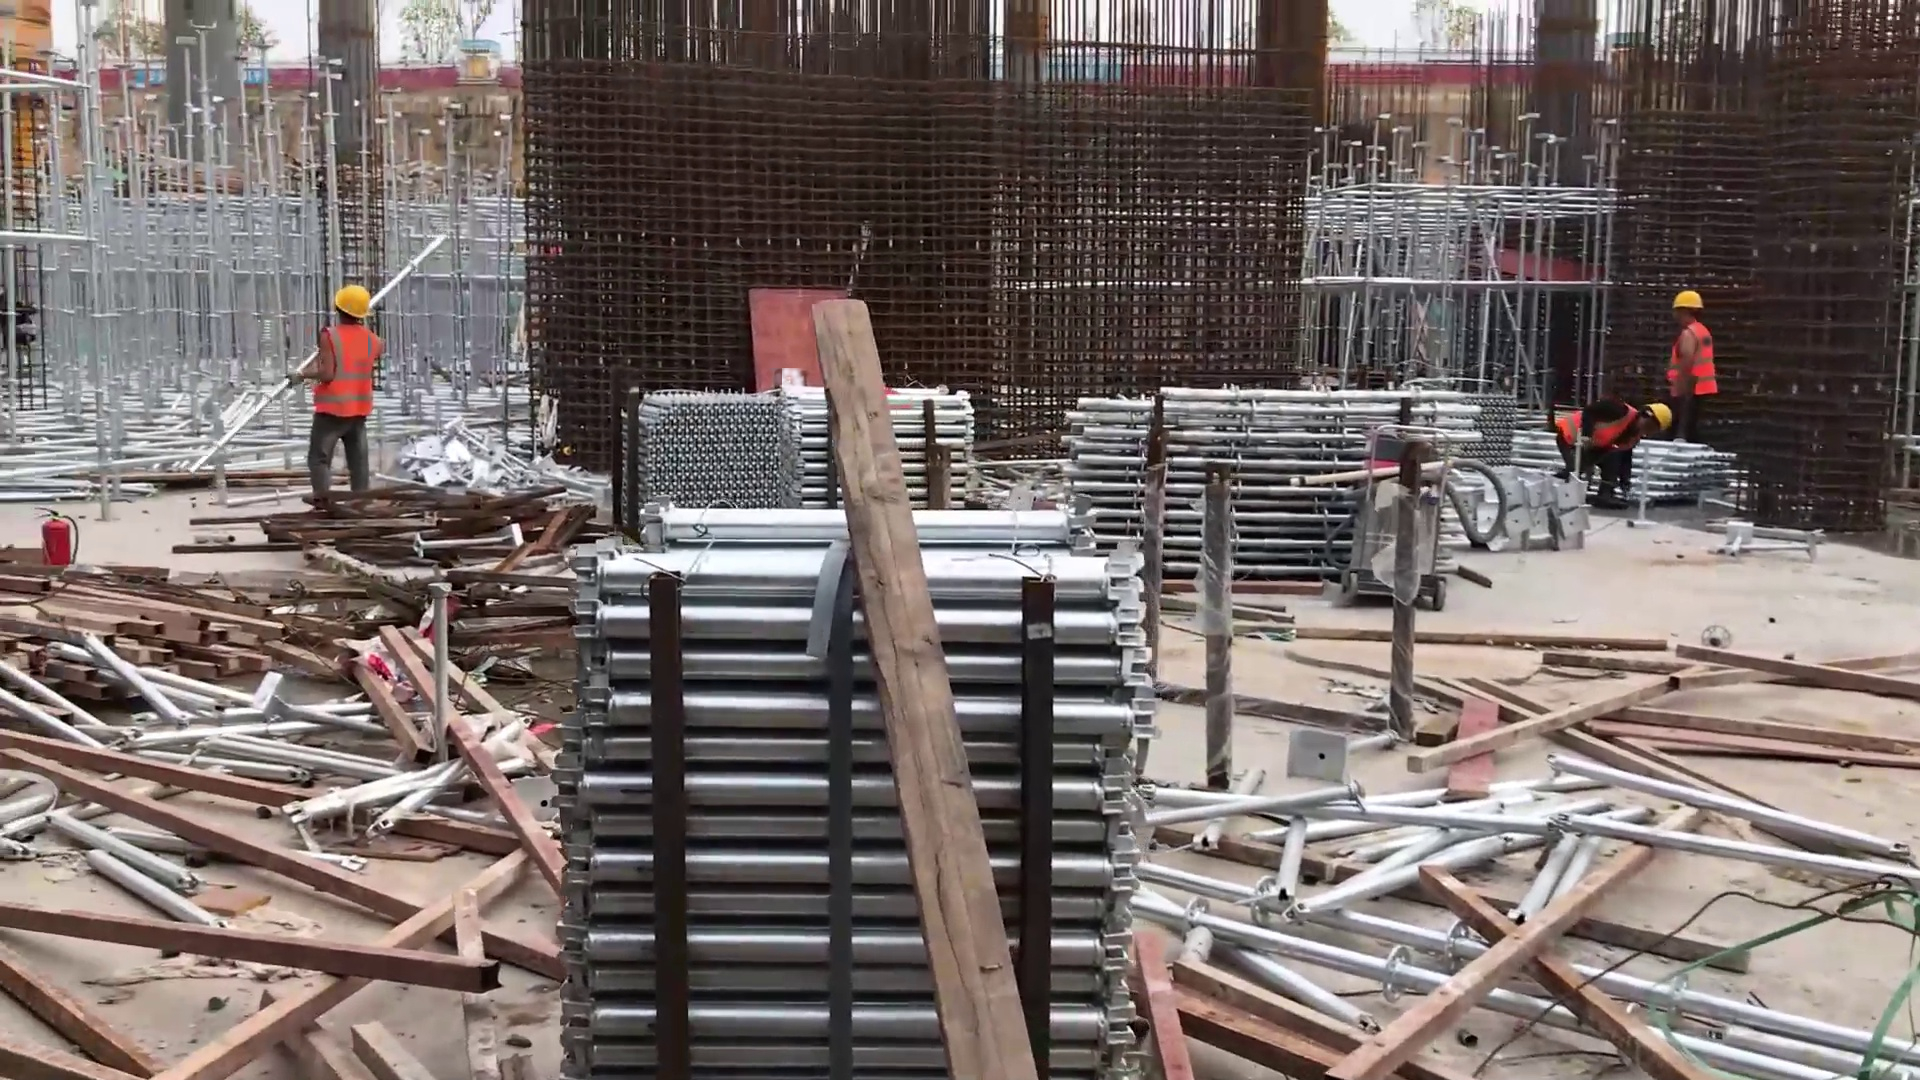fence: (59, 57, 1683, 91)
helmet: (327, 283, 379, 318), (1645, 393, 1675, 431), (1670, 283, 1702, 311)
person: (309, 280, 385, 507), (1551, 396, 1665, 498), (1663, 283, 1715, 448)
scaffold: (605, 517, 1149, 1078), (1066, 386, 1473, 595), (798, 382, 976, 507), (628, 392, 800, 517), (1621, 438, 1732, 514), (1437, 392, 1520, 467)
slogan: (140, 65, 270, 90)
vest: (309, 318, 384, 424), (1557, 401, 1632, 455), (1665, 320, 1718, 392)
